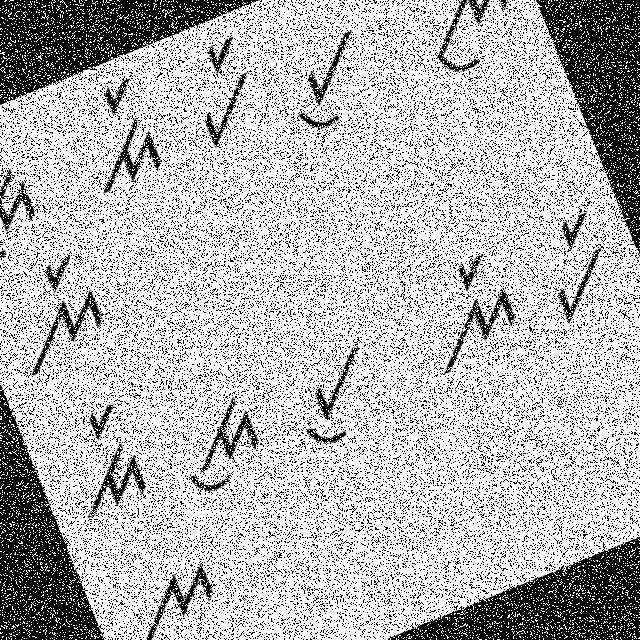dar: (44, 68, 174, 206), (44, 394, 160, 524)
daw: (153, 382, 274, 506), (0, 154, 59, 276)
nar: (396, 236, 534, 384), (0, 246, 126, 381)
naw: (394, 0, 545, 102), (110, 550, 248, 639)
par: (514, 200, 638, 336), (167, 22, 276, 154)
paw: (256, 10, 388, 148), (278, 334, 399, 454)
